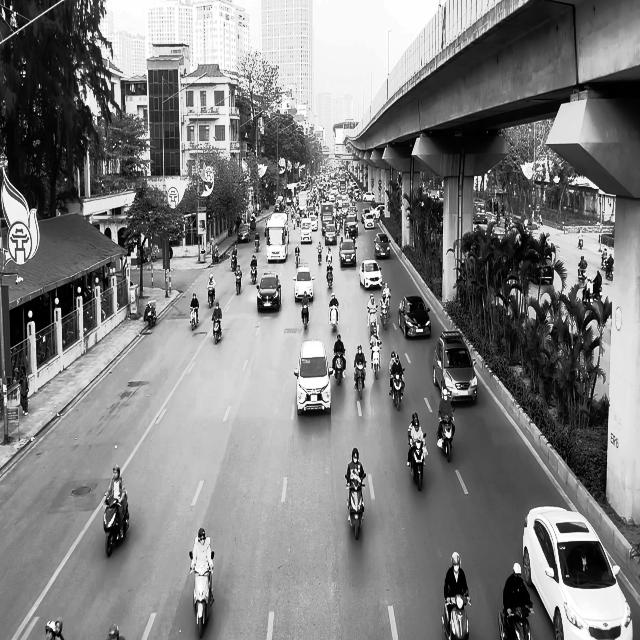bus: (473, 200, 487, 223)
car: (522, 506, 634, 640), (432, 330, 478, 403), (294, 339, 333, 415), (398, 294, 431, 338), (256, 272, 281, 312), (293, 266, 314, 301), (359, 259, 382, 289), (531, 255, 554, 285), (339, 239, 357, 267), (373, 232, 391, 258)
motorbike: (189, 550, 214, 638), (103, 489, 129, 557), (441, 592, 471, 640), (345, 475, 366, 540), (498, 603, 534, 639), (407, 432, 428, 491), (437, 411, 455, 462), (389, 369, 405, 411), (332, 349, 346, 385), (353, 362, 366, 399), (370, 340, 381, 379), (328, 301, 339, 331), (145, 301, 157, 327), (212, 316, 222, 344), (301, 299, 309, 329), (190, 306, 198, 330), (207, 285, 215, 308), (326, 264, 333, 288), (235, 272, 242, 295), (250, 265, 257, 283), (317, 246, 322, 265)
